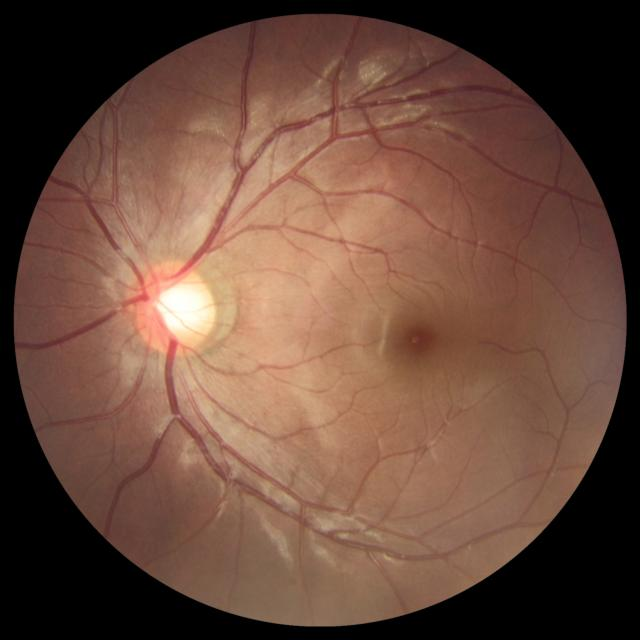OC: (154, 282, 206, 335)
OD: (132, 262, 215, 354)
